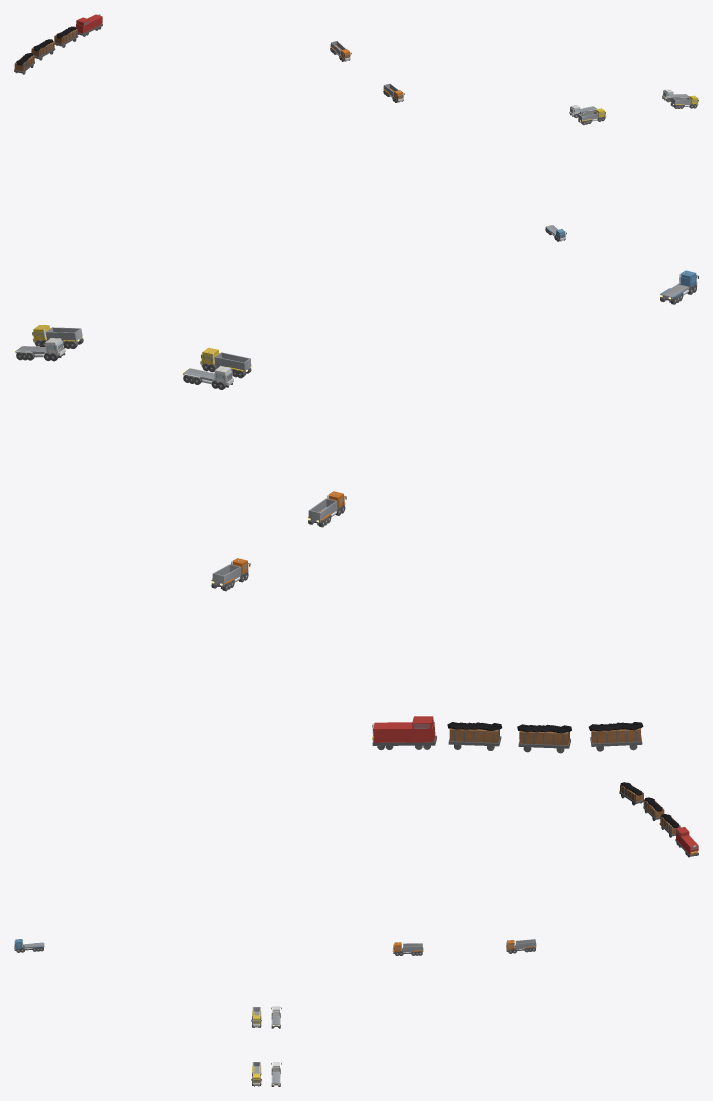
The model's file is Vehicles_P1.fbx.
3 renders of one model, top to bottom at view 1: azimuth 30°, elevation 25°; view 2: azimuth 150°, elevation 25°; view 3: azimuth 270°, elevation 25°, orthographic. The views are drawn at different scales.
Visible parts, largest first — view 1: train; view 2: train, wagon.001, wagon, wagon.002, truck_road_ore2, truck_road_ore3, truck_road_ore1, truck_road_cargo1, truck_road_ore0, truck_road_cargo0; view 3: no part large enough to name.
Boxes of the visible parts, <box> form: train: <box>76,14,102,36</box>; train: <box>372,716,436,750</box>; wagon.001: <box>517,724,571,753</box>; wagon: <box>447,722,502,750</box>; wagon.002: <box>588,722,643,751</box>; truck_road_ore2: <box>200,347,252,378</box>; truck_road_ore3: <box>32,325,83,348</box>; truck_road_ore1: <box>308,491,346,527</box>; truck_road_cargo1: <box>181,365,233,389</box>; truck_road_ore0: <box>211,558,250,591</box>; truck_road_cargo0: <box>14,338,65,361</box>.
Size of the model in its own units: 16603 by 1270 by 18161.
